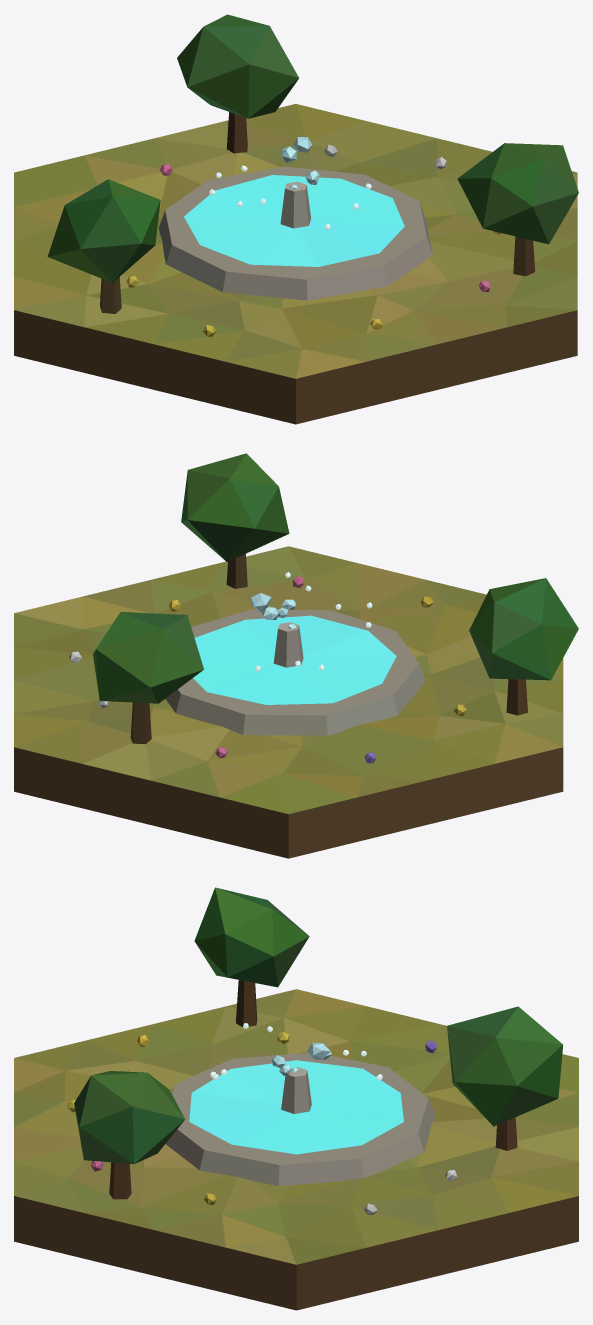
The model's file is Fountain of Youth.glb.
3 views of the same model, one above another, from view 1: azimuth 30°, elevation 25°; view 2: azimuth 150°, elevation 25°; view 3: azimuth 270°, elevation 25° (orthographic). The views are drawn at different scales.
Parts seen in each view (by area): view 1: Fountain of Youth; view 2: Fountain of Youth; view 3: Fountain of Youth.
Part boxes in pixels (left/top/right/bottom): Fountain of Youth: left=14, top=14, right=578, bottom=424; Fountain of Youth: left=14, top=453, right=578, bottom=858; Fountain of Youth: left=14, top=887, right=578, bottom=1310.
Bounding box in the file's own units: 1.94 × 0.5769 × 1.68.
